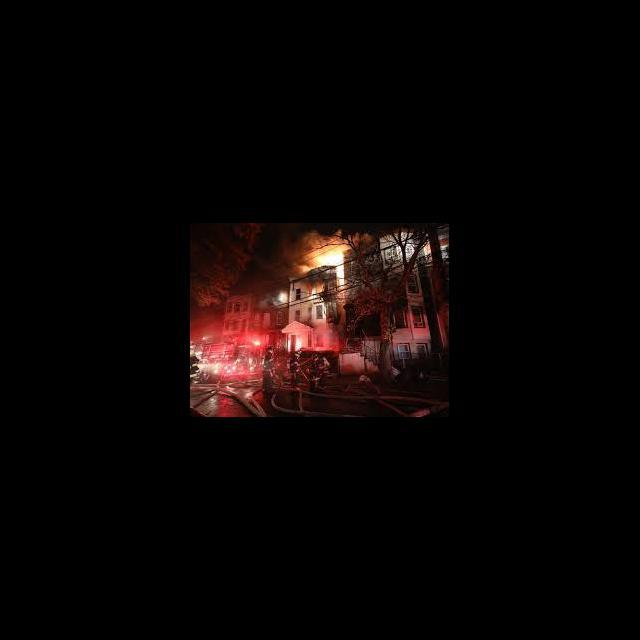Fire: (300, 251, 350, 286)
